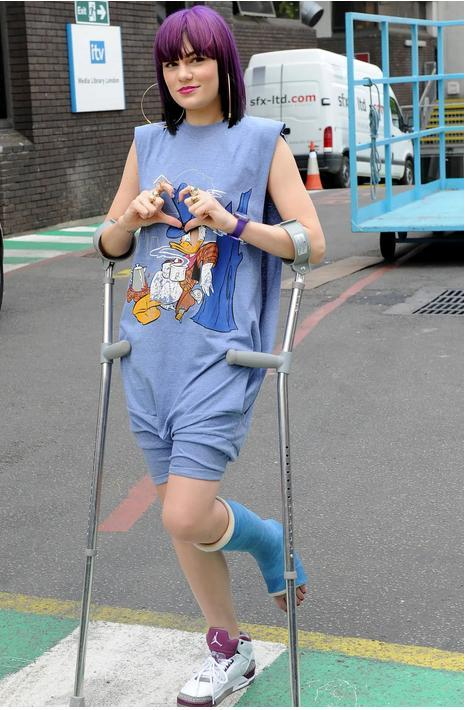crutches: (76, 3, 317, 710)
